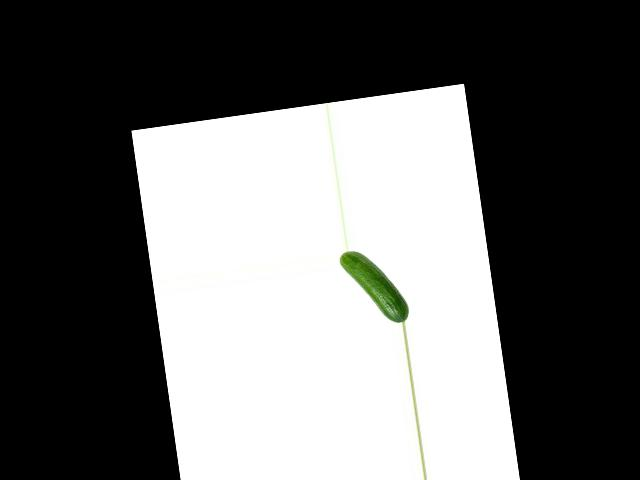cucumber: (339, 243, 411, 330)
